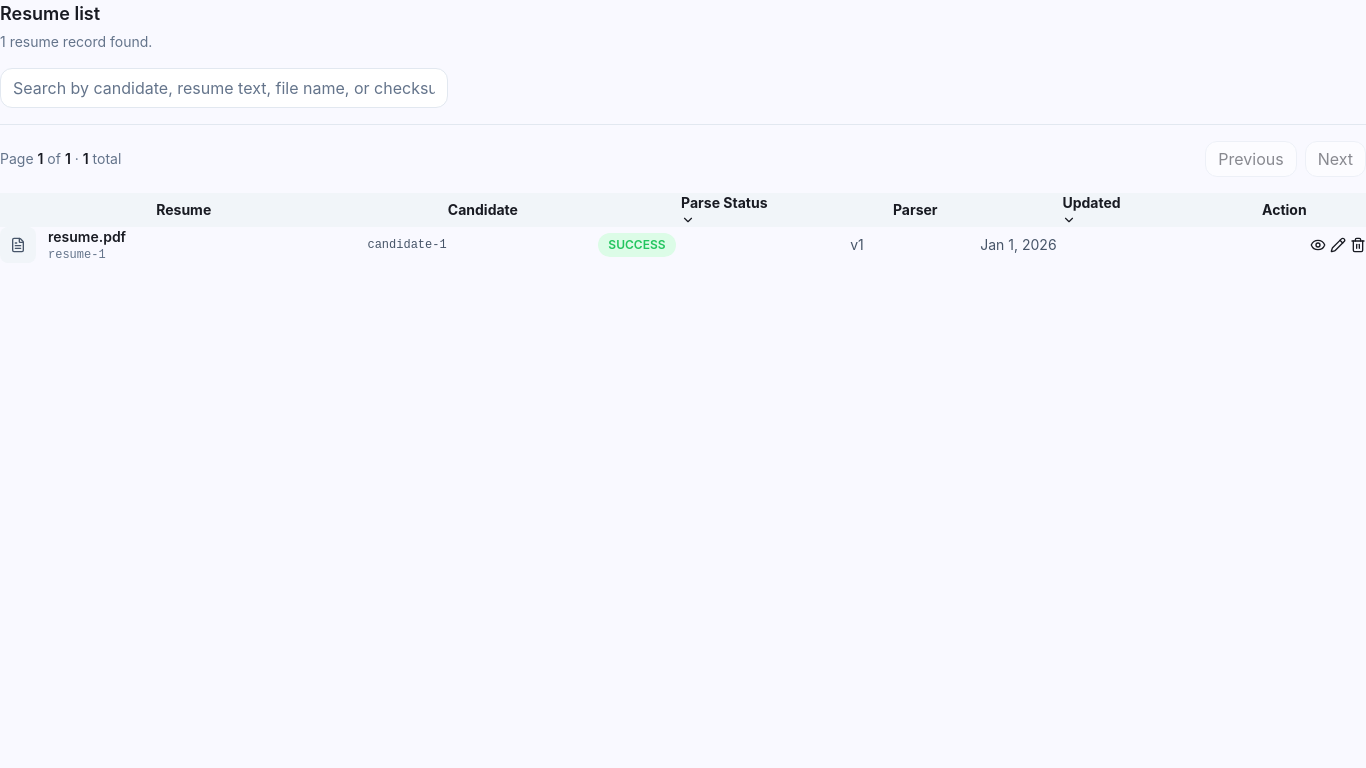
Test: ResumeList › deletes a resume after confirming
Expected: the text "resume.pdf" is shown, 48,227 -> 126,247
Step 1. Click the button named "Delete" → point(1358, 245), box 1350,237 -> 1365,253
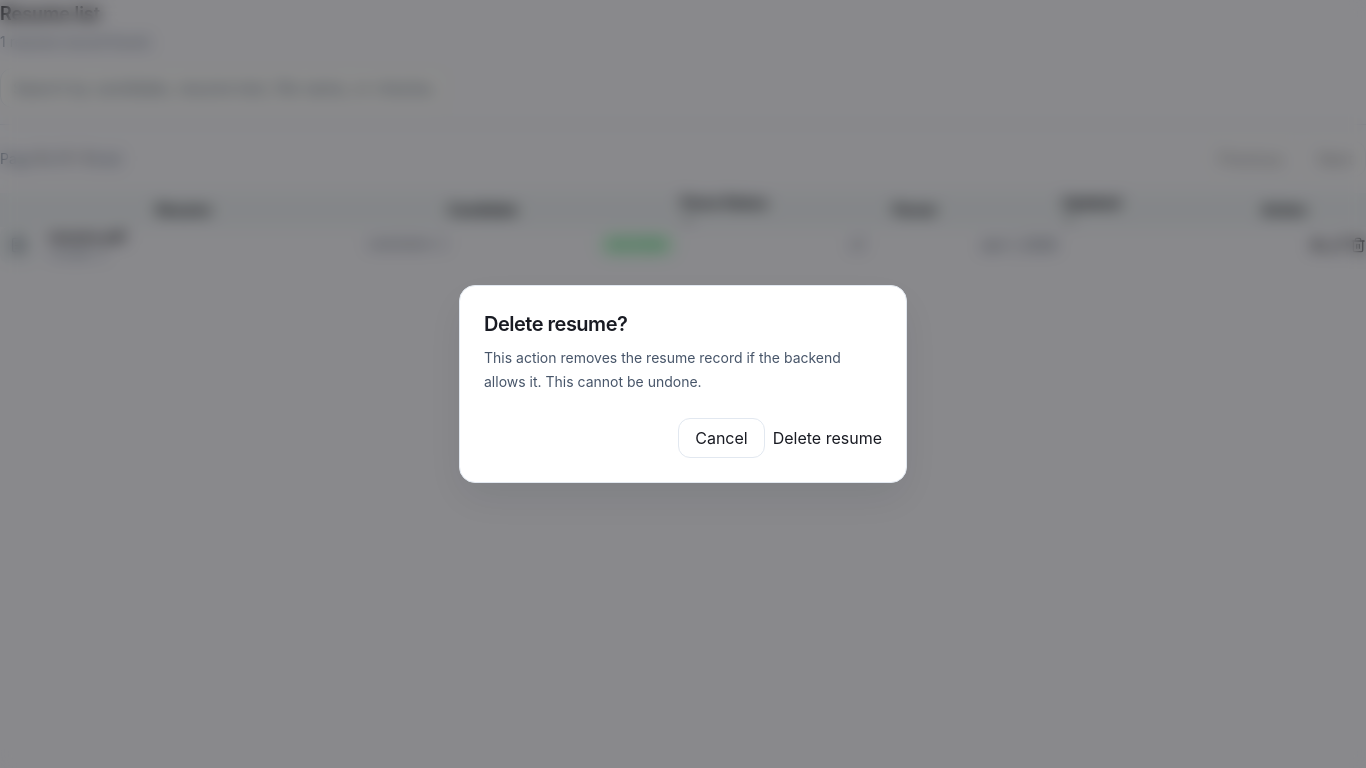
Now the heading "Delete resume?" is shown, box 484,312 -> 627,336
Step 2. Click the button "Delete resume" → point(827, 438), box 773,418 -> 882,458
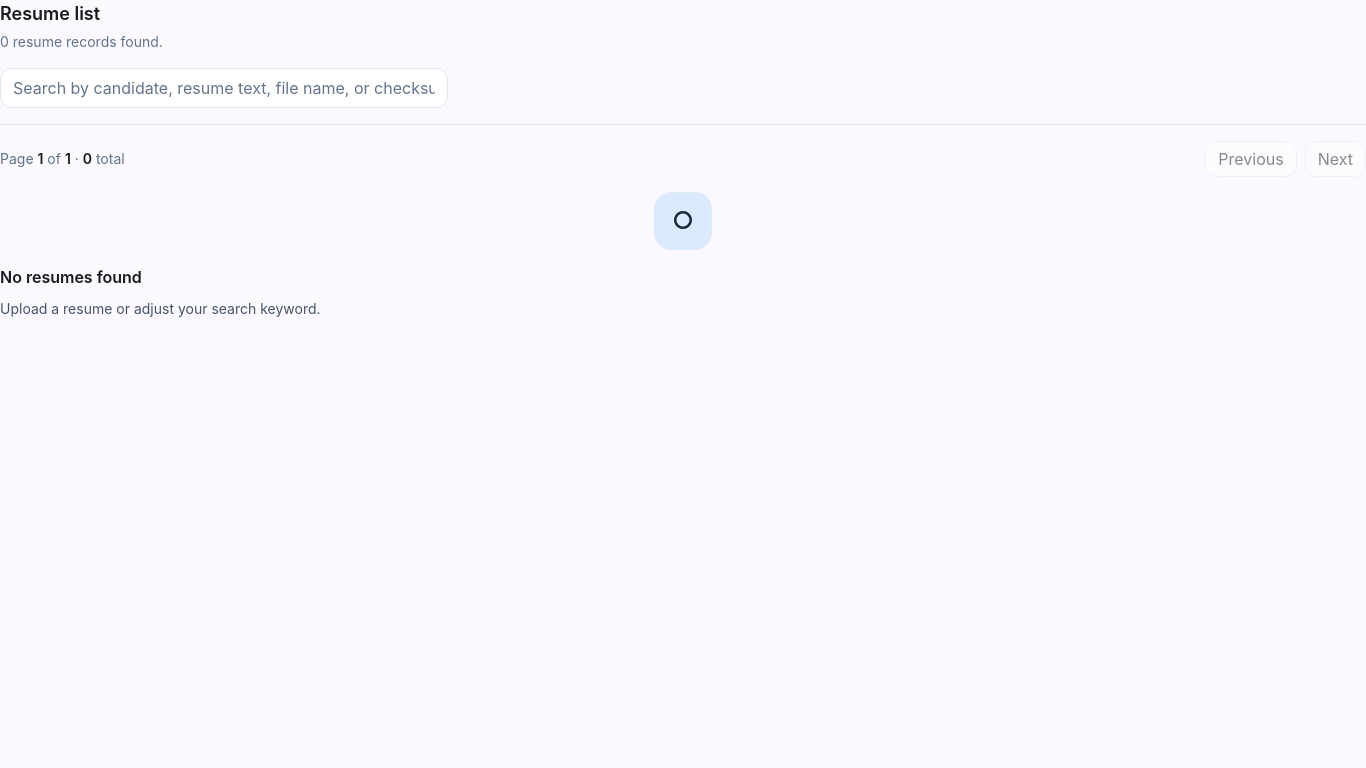
Now the heading "No resumes found" is shown, box 0,267 -> 142,287
